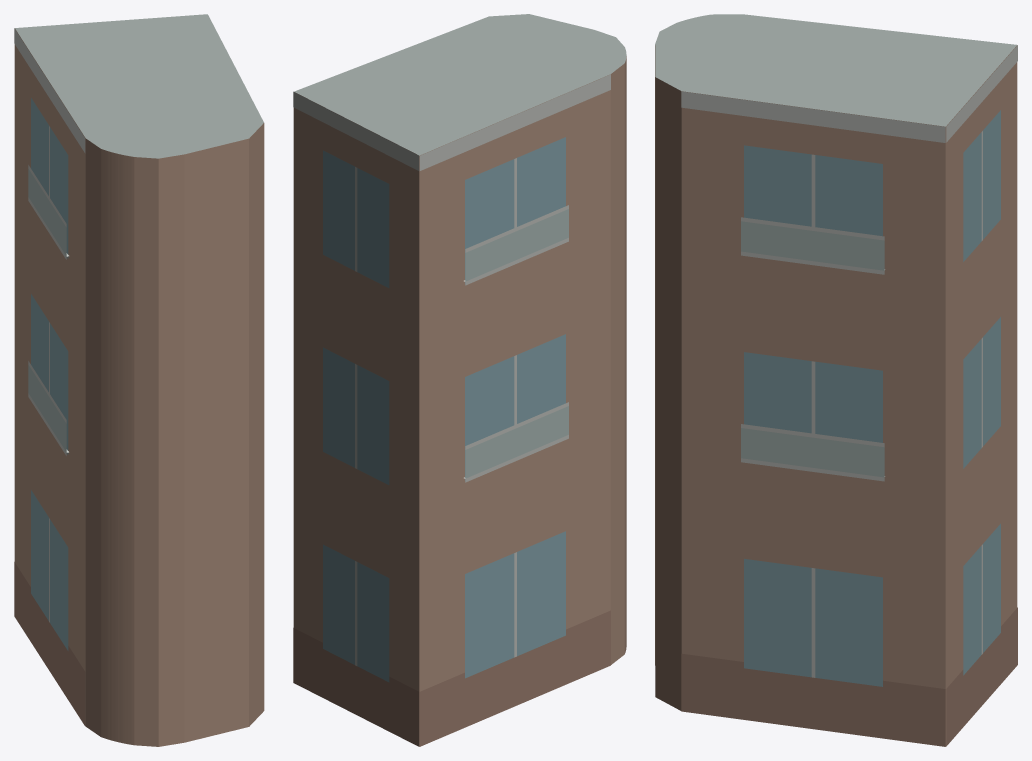
File: survey-upis-32730884.glb
3 views of the same model, side by side, from view 1: azimuth 30°, elevation 25°; view 2: azimuth 150°, elevation 25°; view 3: azimuth 270°, elevation 25° (orthographic). The views are drawn at different scales.
Parts seen in each view (by area): view 1: survey-upis-32730884.tmp; view 2: survey-upis-32730884.tmp; view 3: survey-upis-32730884.tmp.
Boxes of the visible parts, x1,y1,x2,y2 form: survey-upis-32730884.tmp: (14,14,264,746); survey-upis-32730884.tmp: (293,14,626,746); survey-upis-32730884.tmp: (655,14,1017,746).
Size of the model in its own units: 3.57 by 9.15 by 4.85.
